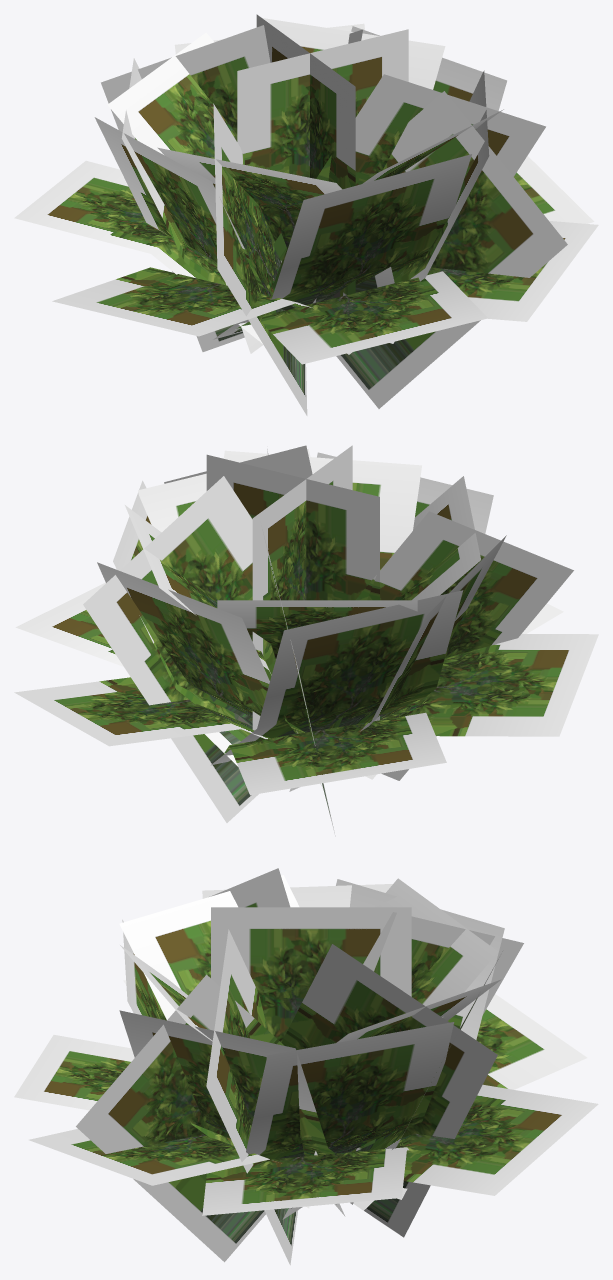
File: bush4.FBX
3 views of the same model, one above another, from view 1: azimuth 30°, elevation 25°; view 2: azimuth 150°, elevation 25°; view 3: azimuth 270°, elevation 25° (orthographic).
Parts seen in each view (by area): view 1: bush4; view 2: bush4; view 3: bush4.
Boxes of the visible parts, x1,y1,x2,y2 form: bush4: (14, 14, 598, 415); bush4: (14, 445, 598, 836); bush4: (14, 868, 598, 1265).
Size of the model in its own units: 115 by 74.59 by 116.
